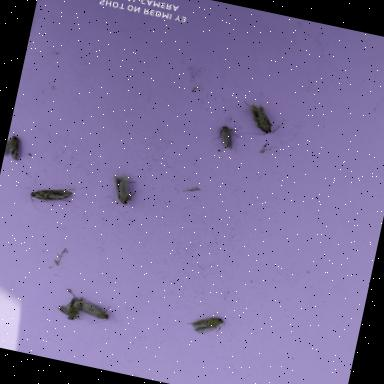pbw: (237, 101, 287, 143), (26, 181, 74, 217), (102, 170, 139, 208), (184, 311, 225, 339), (77, 302, 111, 328), (212, 124, 240, 151), (3, 130, 23, 162)
